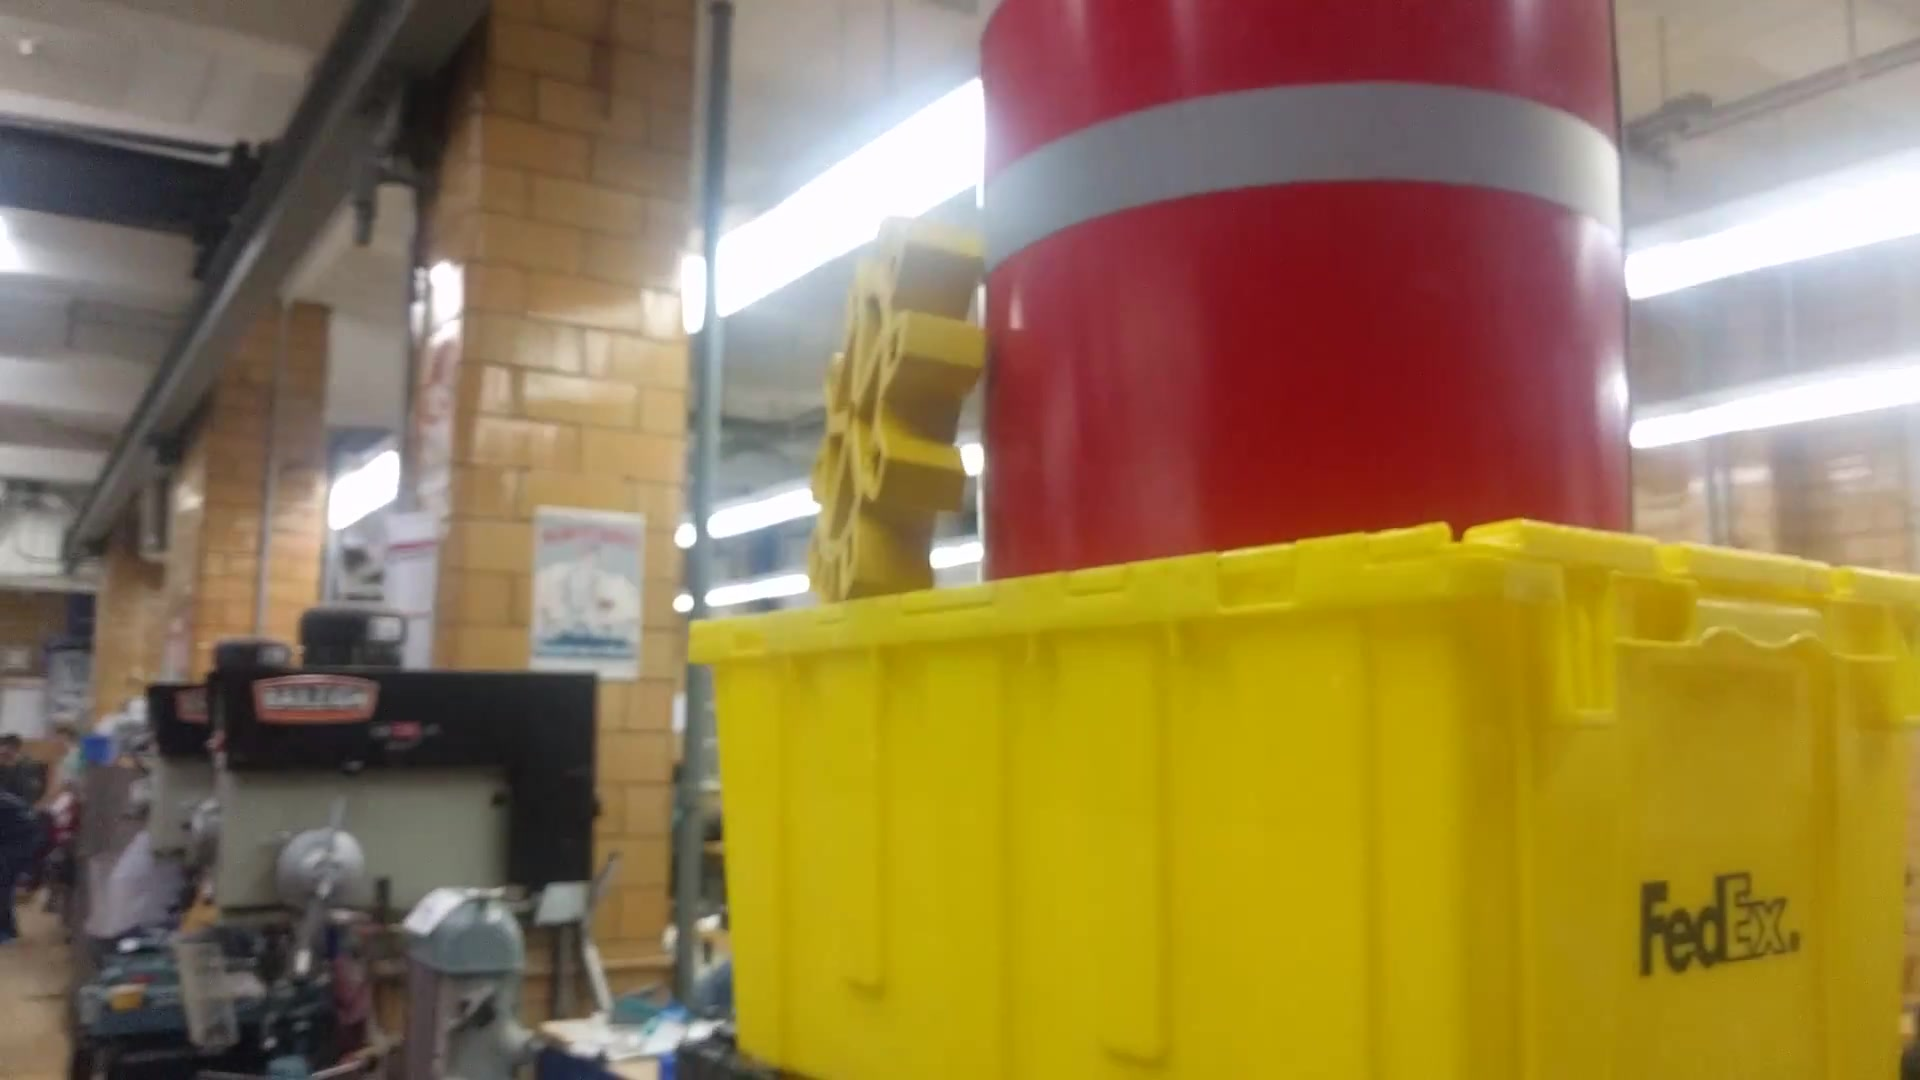gear: (791, 207, 1001, 599)
